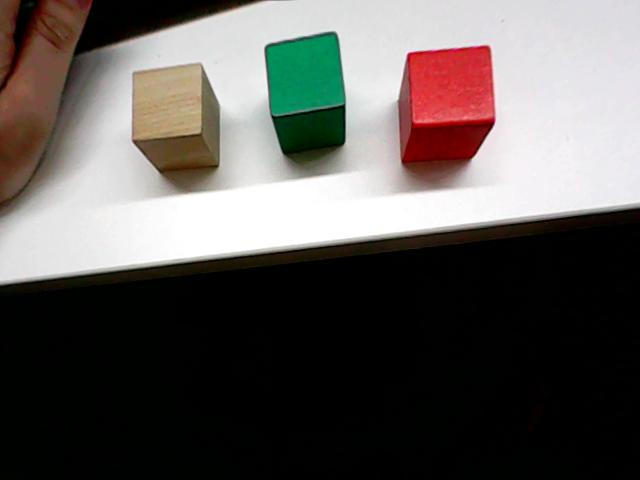green_box: (261, 28, 349, 158)
raw_box: (122, 63, 228, 175)
red_box: (394, 40, 499, 166)
